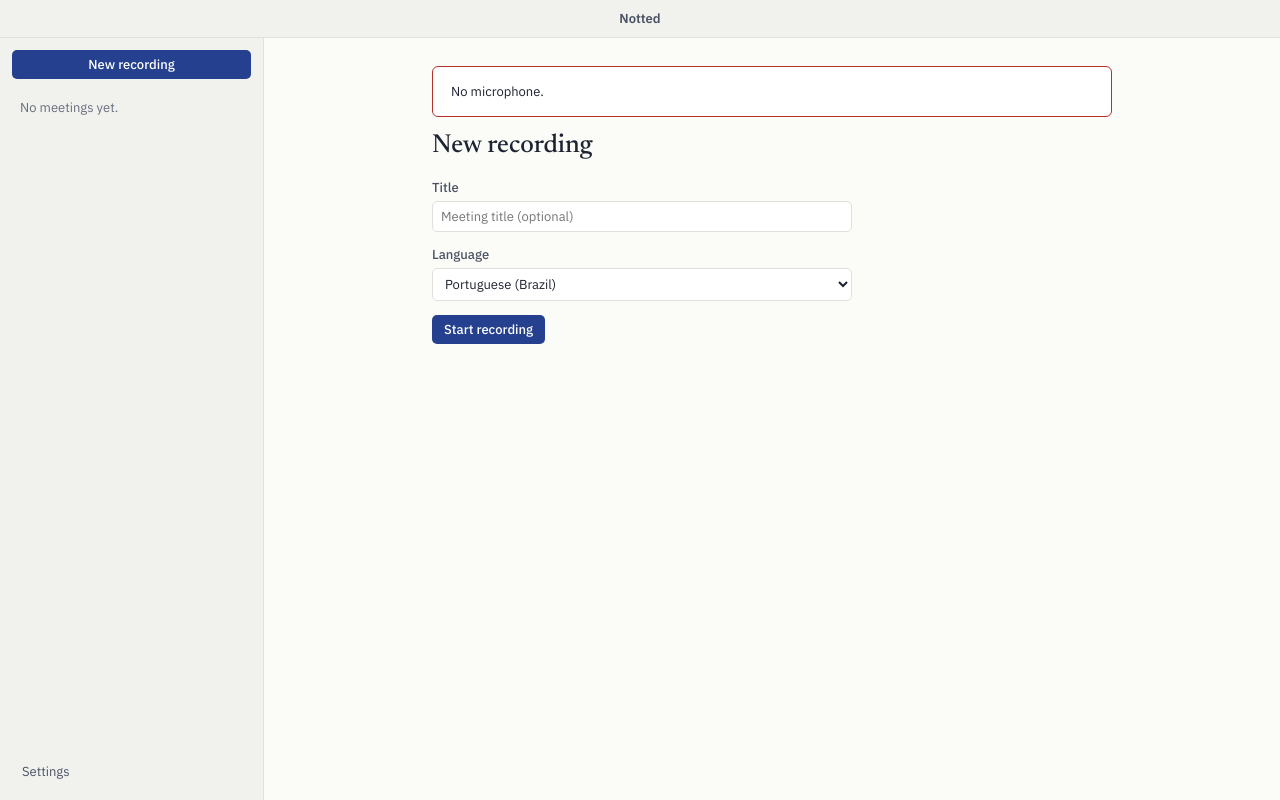
the menu bar › an error is cleared when a recording starts from the window
The width and height of the screenshot is (1280, 800).
Expected: the heading "New recording" is shown, [432, 133, 593, 159]
Expected: the message "No microphone." is shown, [432, 66, 1112, 117]
Click the button "Start recording" at [489, 330], box [432, 315, 545, 344]
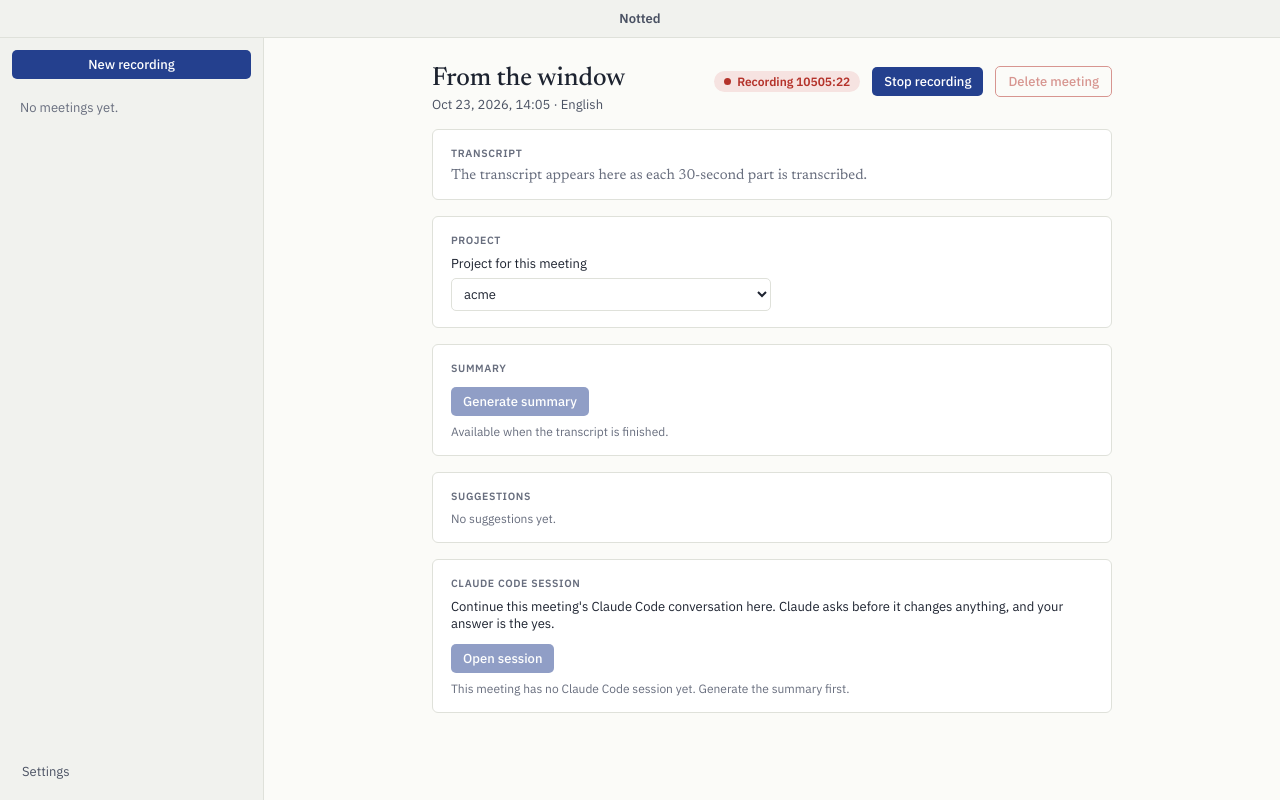
Expected: the heading "From the window" is shown, [432, 66, 625, 92]
Expected: the message "No microphone." is gone
